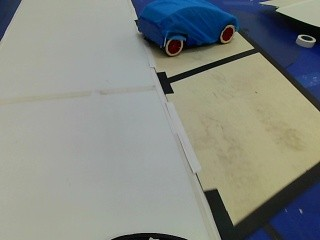car: (129, 0, 239, 58)
